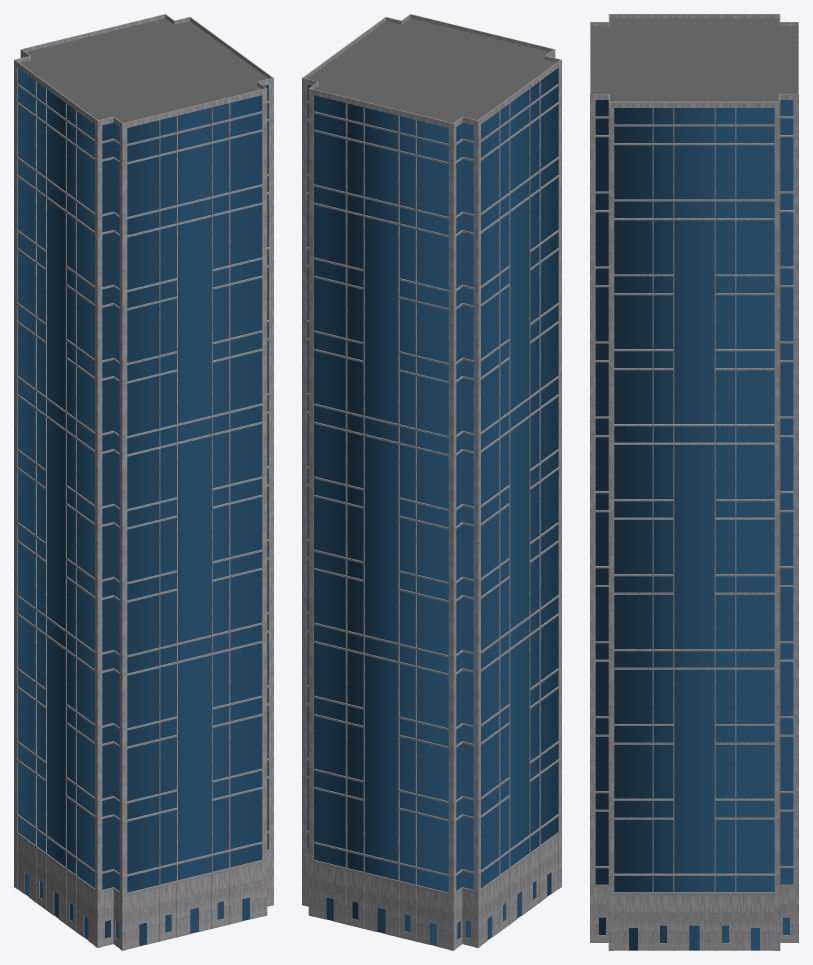
The model's file is BuildingA.FBX.
3 renders of one model, left to right at view 1: azimuth 30°, elevation 25°; view 2: azimuth 150°, elevation 25°; view 3: azimuth 270°, elevation 25°, orthographic. The views are drawn at different scales.
Parts seen in each view (by area): view 1: glaz_01, wall_01, wall_02, slab_01; view 2: glaz_01, wall_01, wall_02, slab_01; view 3: glaz_01, wall_01, wall_02, slab_01.
Part boxes in pixels (box(x1,y1,x2,y2)): glaz_01: box(17, 68, 268, 946); wall_01: box(14, 55, 273, 950); wall_02: box(14, 14, 273, 949); slab_01: box(19, 18, 268, 122); glaz_01: box(307, 68, 558, 946); wall_01: box(302, 55, 561, 950); wall_02: box(302, 14, 561, 949); slab_01: box(307, 18, 556, 122); glaz_01: box(595, 100, 793, 950); wall_01: box(590, 100, 798, 950); wall_02: box(590, 14, 798, 950); slab_01: box(591, 18, 797, 101).
Size of the model in its own units: 892 by 3999 by 892.
3 materials, 1 textured.
